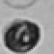correct: (0, 17, 45, 52)
